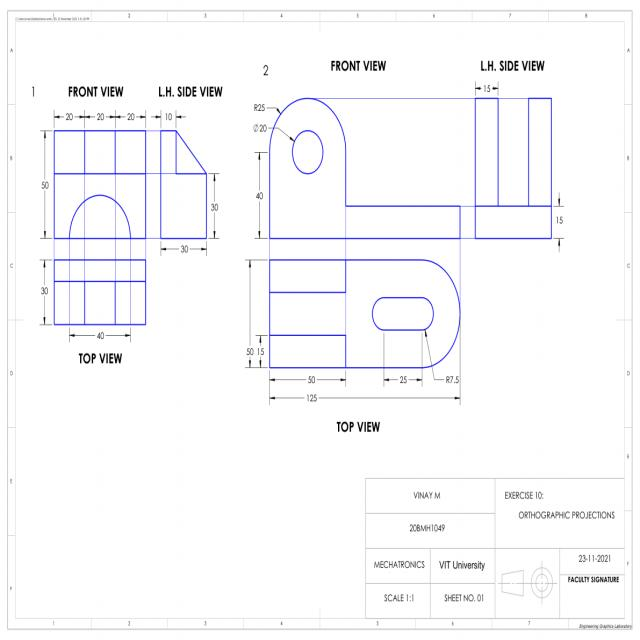Drawings: (242, 255, 465, 411), (246, 92, 465, 250), (471, 82, 567, 254), (49, 122, 149, 246), (33, 254, 152, 342), (156, 125, 220, 257)
